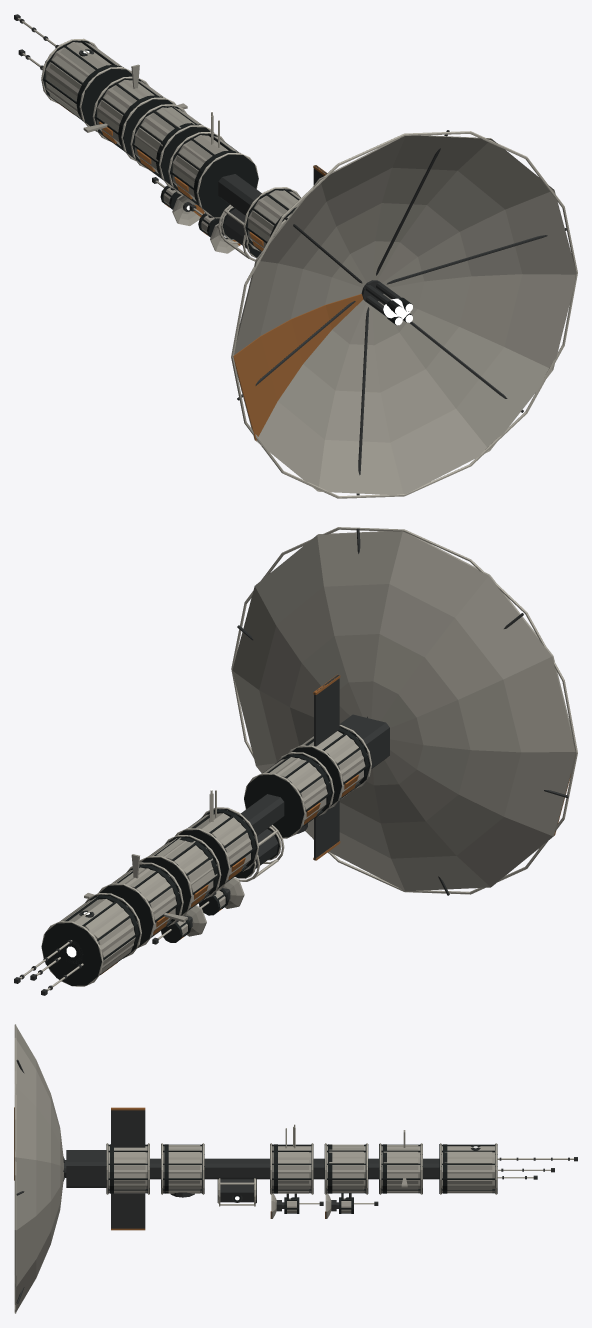
The picture shows the model from 3 angles, top to bottom: view 1: azimuth 30°, elevation 25°; view 2: azimuth 150°, elevation 25°; view 3: azimuth 270°, elevation 25°; orthographic projection. The views are drawn at different scales.
Parts seen in each view (by area): view 1: RIMWARD_HULL; view 2: RIMWARD_HULL; view 3: RIMWARD_HULL.
Boxes of the visible parts, bbox=[...] form: RIMWARD_HULL: bbox=[14, 14, 577, 498]; RIMWARD_HULL: bbox=[14, 527, 577, 995]; RIMWARD_HULL: bbox=[14, 1024, 577, 1313].
Bounding box in the file's own units: 16.14 × 16.14 × 31.42.
